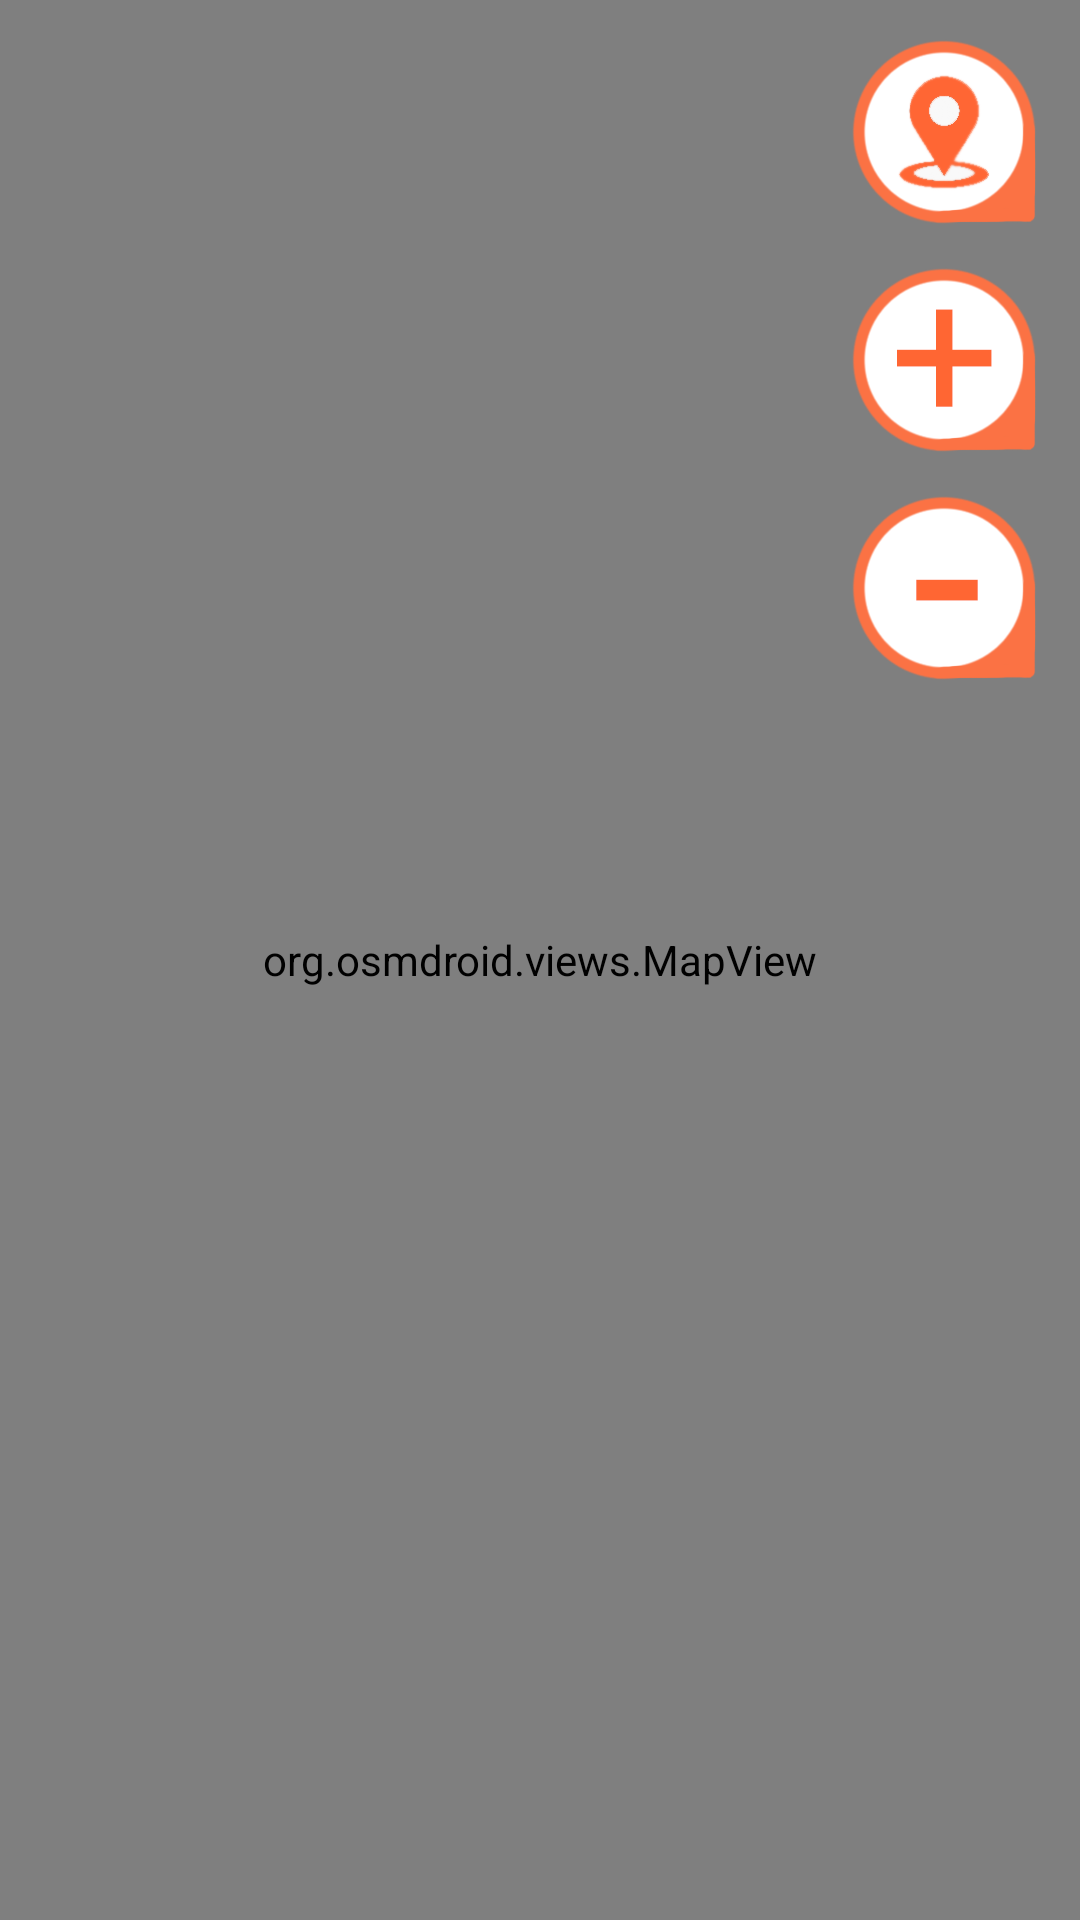

Where icons sit on this 1080w x 1920h app screen, as (x1=x1, y1=y1, x2=x2, y2=y2):
map add: (x1=853, y1=269, x2=1036, y2=451)
map center: (x1=853, y1=41, x2=1036, y2=223)
map minus: (x1=853, y1=497, x2=1036, y2=679)
